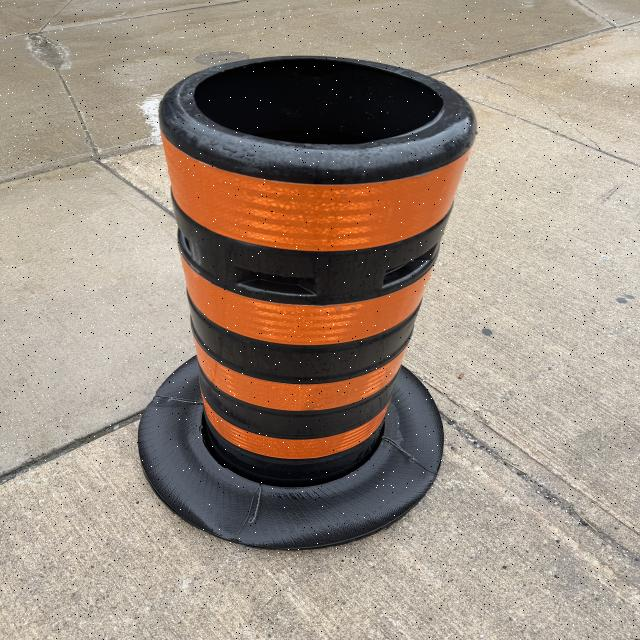Teraffic Barrel: (139, 56, 475, 548)
